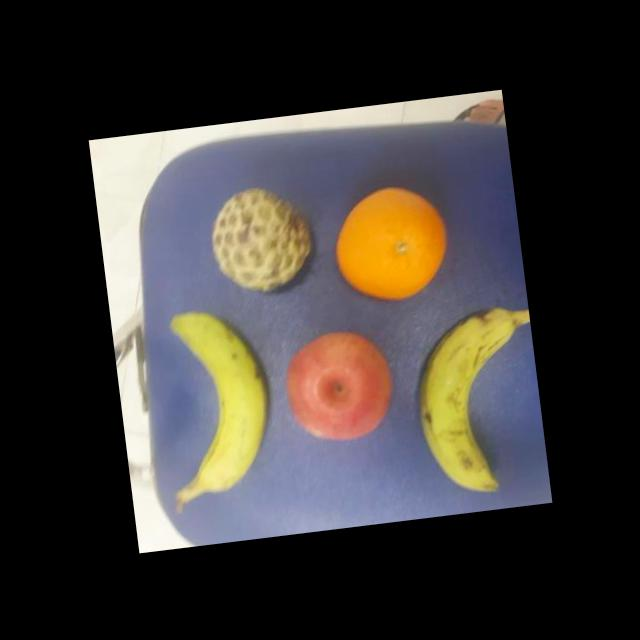Sakya fruit: (204, 178, 320, 302)
apple: (278, 326, 398, 450)
banana: (403, 302, 532, 495), (172, 304, 282, 498)
orange: (326, 176, 458, 305)
